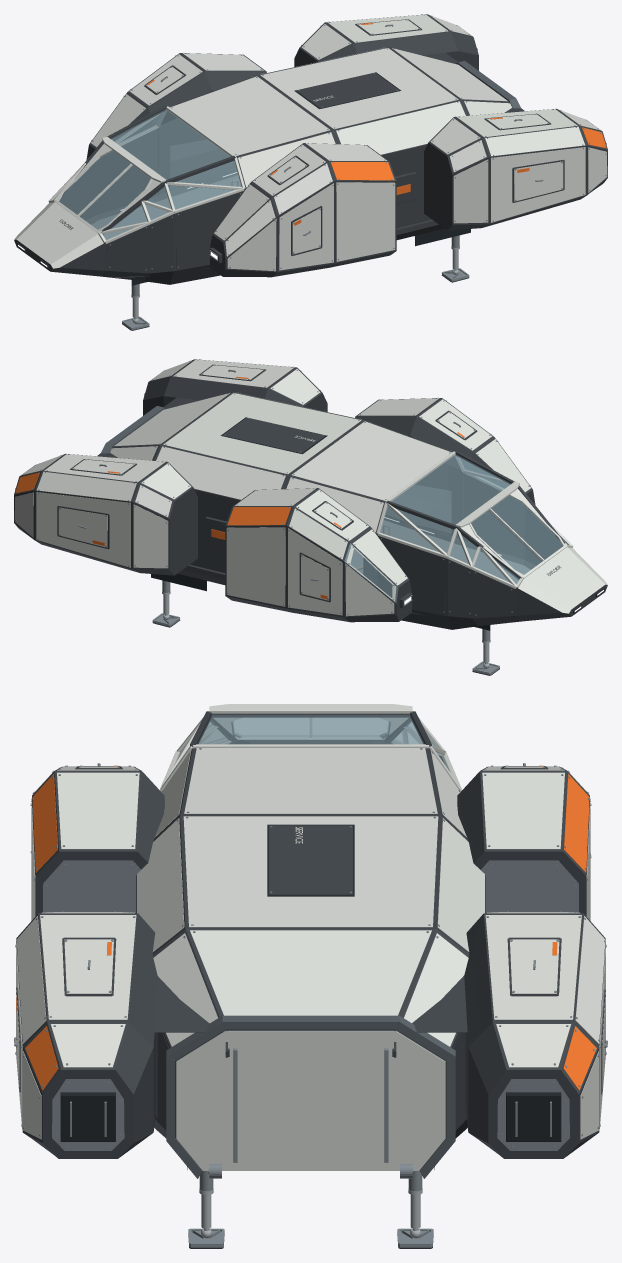
The model's file is explorer-current-closed-review.glb.
The picture shows the model from 3 angles, top to bottom: view 1: azimuth 30°, elevation 25°; view 2: azimuth 150°, elevation 25°; view 3: azimuth 270°, elevation 25°; orthographic projection. The views are drawn at different scales.
Parts seen in each view (by area): view 1: Core removable outer cover 05-3, Core removable outer cover 04-3, Shoulder -1 service panel 2-5, Wedge nose | continuous pressure skin, Cockpit glazing 03-3 pane 0, Aft housing -1 service panel 1-5, Core removable outer cover 05-4, Core pressure skin 03-1, Core removable outer cover 03-5, Shoulder -1 service panel 1-5, Aft housing -1 end closure 0, Aft housing -1 service panel 0-5 (+55 smaller); view 2: Core removable outer cover 05-3, Core removable outer cover 04-3, Shoulder 1 service panel 2-1, Wedge nose | continuous pressure skin, Cockpit glazing 03-3 pane 0, Aft housing 1 service panel 1-1, Core removable outer cover 05-2, Core pressure skin 03-5, Core removable outer cover 03-1, Shoulder 1 service panel 1-1, Aft housing 1 end closure 0, Aft housing 1 service panel 0-1 (+54 smaller); view 3: Rear ramp main leaf, Core removable outer cover 05-3, Core removable outer cover 06-3, Core removable outer cover 04-3, Cockpit glazing 03-3 pane 0, Aft housing -1 service panel 1-3, Aft housing 1 service panel 1-3, Shoulder 1 service panel 2-3, Shoulder -1 service panel 2-3, Dorsal maintenance cover, Shoulder 1 aft interface blind cover, Shoulder -1 aft interface blind cover (+56 smaller).
Boxes of the visible parts, x1,y1,x2,y2 form: Core removable outer cover 05-3: (260, 48, 458, 129); Core removable outer cover 04-3: (170, 76, 330, 155); Shoulder -1 service panel 2-5: (336, 182, 395, 261); Wedge nose | continuous pressure skin: (14, 202, 105, 276); Cockpit glazing 03-3 pane 0: (111, 109, 230, 179); Aft housing -1 service panel 1-5: (491, 147, 585, 222); Core removable outer cover 05-4: (336, 101, 465, 154); Core pressure skin 03-1: (97, 128, 157, 214); Core removable outer cover 03-5: (176, 191, 242, 269); Shoulder -1 service panel 1-5: (279, 183, 333, 270); Aft housing -1 end closure 0: (424, 142, 452, 230); Aft housing -1 service panel 0-5: (453, 159, 488, 223); Core removable outer cover 05-3: (163, 393, 361, 474); Core removable outer cover 04-3: (291, 421, 451, 500); Shoulder 1 service panel 2-1: (226, 527, 285, 606); Wedge nose | continuous pressure skin: (516, 547, 607, 621); Cockpit glazing 03-3 pane 0: (391, 454, 510, 524); Aft housing 1 service panel 1-1: (36, 492, 130, 567); Core removable outer cover 05-2: (156, 446, 285, 499); Core pressure skin 03-5: (464, 473, 524, 559); Core removable outer cover 03-1: (379, 536, 445, 614); Shoulder 1 service panel 1-1: (288, 528, 342, 615); Aft housing 1 end closure 0: (169, 487, 197, 575); Aft housing 1 service panel 0-1: (133, 504, 168, 568); Rear ramp main leaf: (176, 1031, 445, 1170); Core removable outer cover 05-3: (183, 816, 438, 927); Core removable outer cover 06-3: (190, 930, 431, 1015); Core removable outer cover 04-3: (184, 748, 437, 813); Cockpit glazing 03-3 pane 0: (198, 715, 423, 744); Aft housing -1 service panel 1-3: (40, 915, 136, 1019); Aft housing 1 service panel 1-3: (485, 915, 581, 1019); Shoulder 1 service panel 2-3: (482, 772, 564, 849); Shoulder -1 service panel 2-3: (57, 772, 139, 849); Dorsal maintenance cover: (269, 825, 352, 894); Shoulder 1 aft interface blind cover: (481, 860, 578, 913); Shoulder -1 aft interface blind cover: (43, 860, 140, 913).
Bounding box in the file's own units: 11.03 × 3.96 × 6.53.
